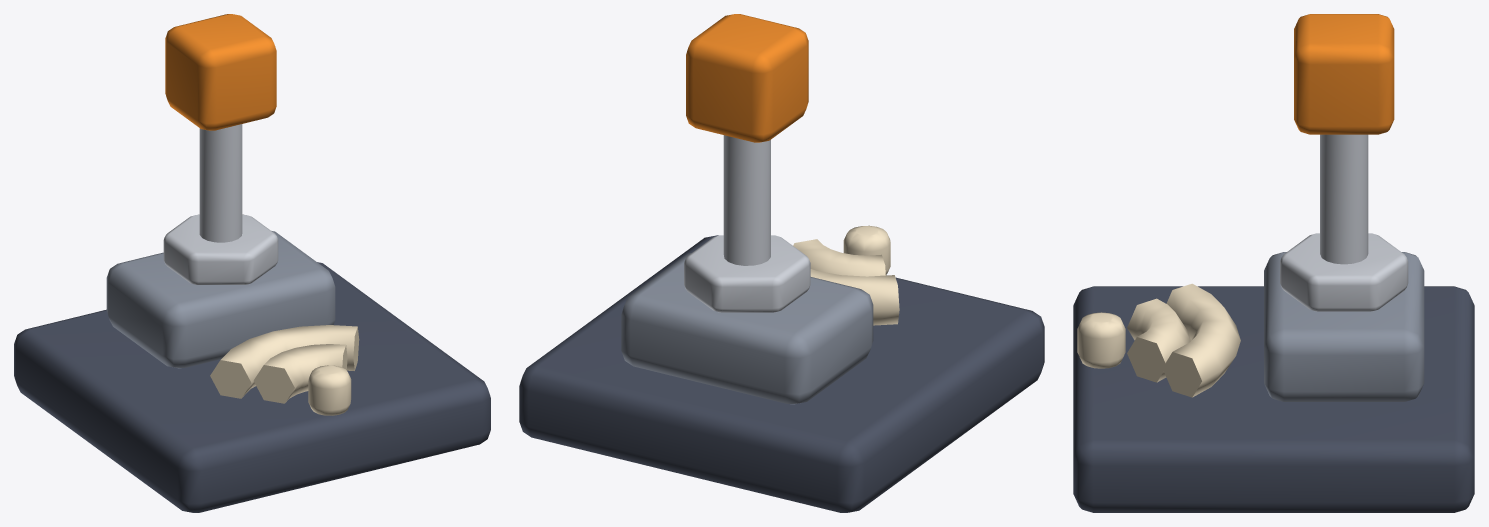
The model's file is Ctrl_Toggle_Comms.glb.
3 views of the same model, side by side, from view 1: azimuth 30°, elevation 25°; view 2: azimuth 150°, elevation 25°; view 3: azimuth 270°, elevation 25° (orthographic). The views are drawn at different scales.
Parts seen in each view (by area): view 1: Ctrl_Toggle_Comms.Base, Ctrl_Toggle_Comms.Housing, Ctrl_Toggle_Comms.Move_Lever, Ctrl_Toggle_Comms.Icon, Ctrl_Toggle_Comms.Nut; view 2: Ctrl_Toggle_Comms.Base, Ctrl_Toggle_Comms.Housing, Ctrl_Toggle_Comms.Move_Lever, Ctrl_Toggle_Comms.Nut, Ctrl_Toggle_Comms.Icon; view 3: Ctrl_Toggle_Comms.Base, Ctrl_Toggle_Comms.Move_Lever, Ctrl_Toggle_Comms.Housing, Ctrl_Toggle_Comms.Icon, Ctrl_Toggle_Comms.Nut.
Part boxes in pixels (left/top/right/bottom): Ctrl_Toggle_Comms.Base: left=14, top=262, right=490, bottom=512; Ctrl_Toggle_Comms.Housing: left=106, top=231, right=335, bottom=368; Ctrl_Toggle_Comms.Move_Lever: left=165, top=14, right=276, bottom=242; Ctrl_Toggle_Comms.Icon: left=210, top=325, right=359, bottom=415; Ctrl_Toggle_Comms.Nut: left=163, top=214, right=278, bottom=284; Ctrl_Toggle_Comms.Base: left=519, top=235, right=1044, bottom=512; Ctrl_Toggle_Comms.Housing: left=621, top=253, right=873, bottom=404; Ctrl_Toggle_Comms.Move_Lever: left=686, top=14, right=808, bottom=265; Ctrl_Toggle_Comms.Nut: left=684, top=235, right=810, bottom=312; Ctrl_Toggle_Comms.Icon: left=793, top=225, right=899, bottom=325; Ctrl_Toggle_Comms.Base: left=1073, top=286, right=1474, bottom=512; Ctrl_Toggle_Comms.Move_Lever: left=1294, top=14, right=1394, bottom=264; Ctrl_Toggle_Comms.Housing: left=1264, top=252, right=1424, bottom=401; Ctrl_Toggle_Comms.Icon: left=1077, top=283, right=1240, bottom=397; Ctrl_Toggle_Comms.Nut: left=1280, top=233, right=1408, bottom=311.
Bounding box in the file's own units: 0.2 × 0.224 × 0.2.
Materials: 1 (1 with a texture image).
